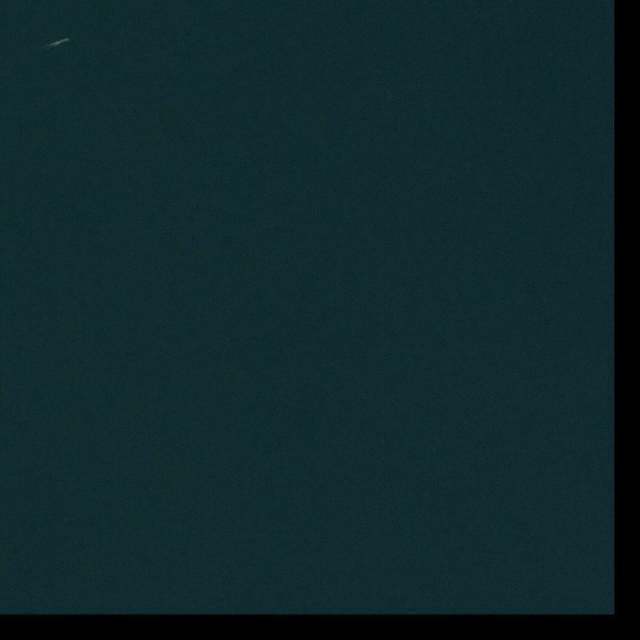ship: (58, 37, 71, 44)
